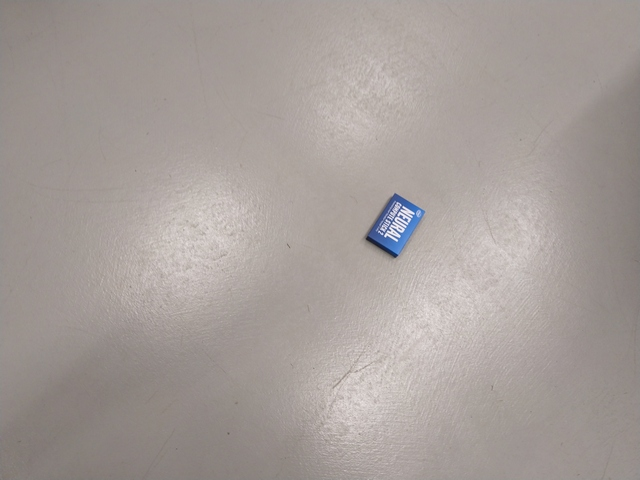box: (364, 191, 426, 258)
